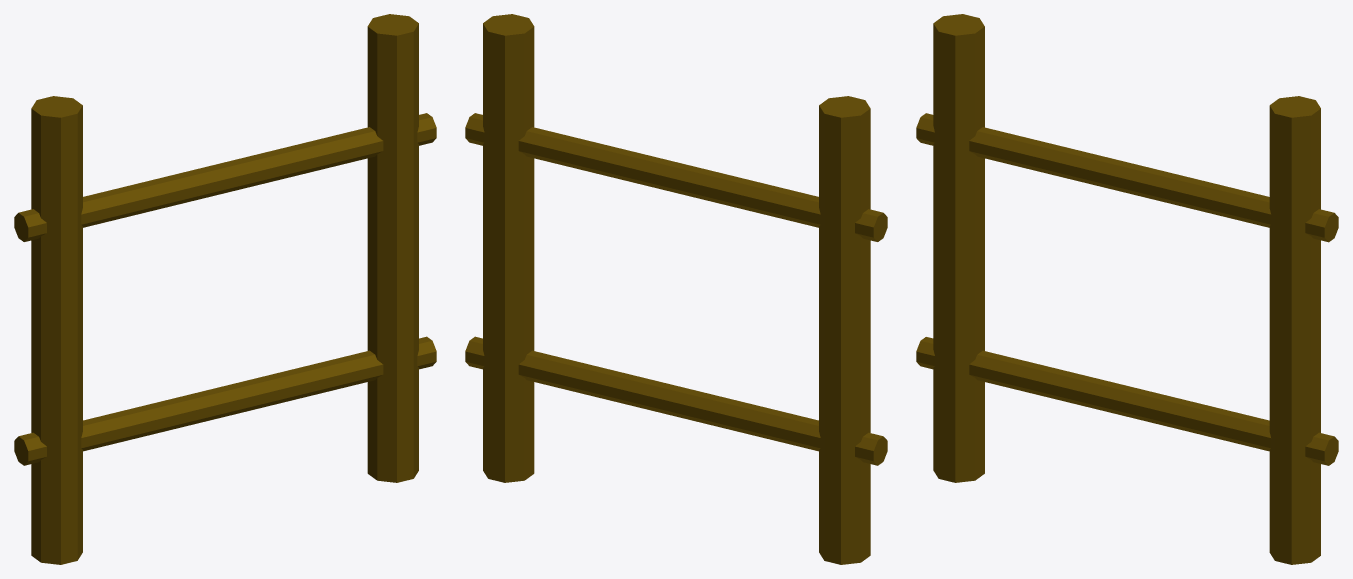
The model's file is Ladder.fbx.
3 renders of one model, left to right at view 1: azimuth 30°, elevation 25°; view 2: azimuth 150°, elevation 25°; view 3: azimuth 330°, elevation 25°, orthographic.
Visible parts, largest first — view 1: pCube3, pCube1, pCube4, pCube5; view 2: pCube3, pCube1, pCube4, pCube5; view 3: pCube1, pCube3, pCube5, pCube4.
Boxes of the visible parts, x1,y1,x2,y2 form: pCube3: [31, 96, 82, 564]; pCube1: [367, 14, 418, 482]; pCube4: [14, 113, 436, 241]; pCube5: [14, 336, 436, 465]; pCube3: [819, 96, 870, 564]; pCube1: [483, 14, 534, 482]; pCube4: [465, 113, 887, 241]; pCube5: [465, 336, 887, 465]; pCube1: [1269, 96, 1320, 564]; pCube3: [933, 14, 984, 482]; pCube5: [916, 337, 1338, 465]; pCube4: [916, 113, 1338, 242].
Size of the model in its own units: 0.956 by 1 by 0.0979.
